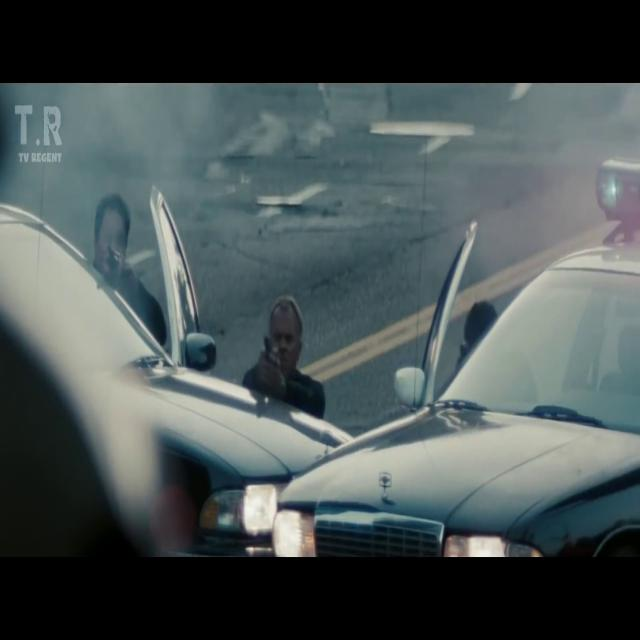handgun: (246, 336, 280, 379)
